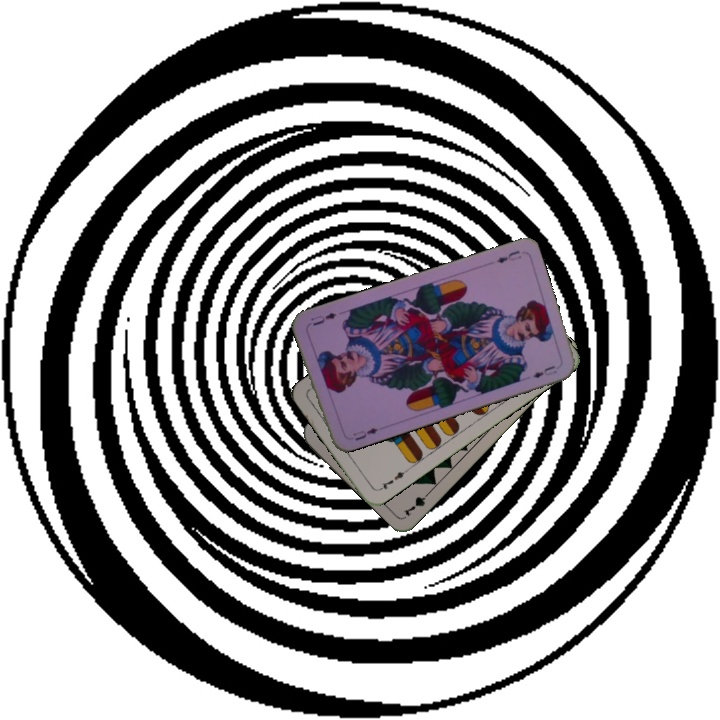E7: (374, 466, 410, 493)
EU: (349, 423, 381, 444), (492, 246, 524, 266)
G7: (399, 486, 434, 519)
